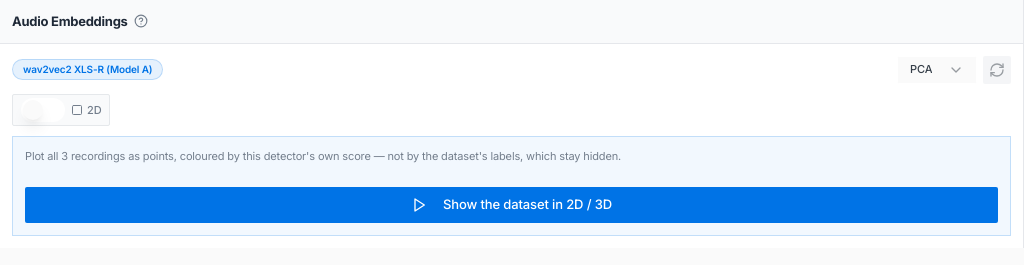
Test case: DeepfakeEmbeddingPanel › surfaces a 503 rather than an empty plot
Click the button "Show the dataset in 2D / 3D" at (512, 205), box top-left (25, 187), bottom-right (998, 223)
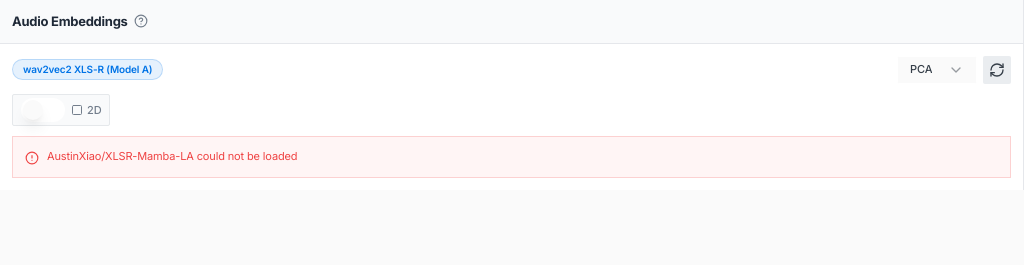
Expected: the text "AustinXiao/XLSR-Mamba-LA could not be loaded" is shown, top-left (47, 149), bottom-right (297, 165)
